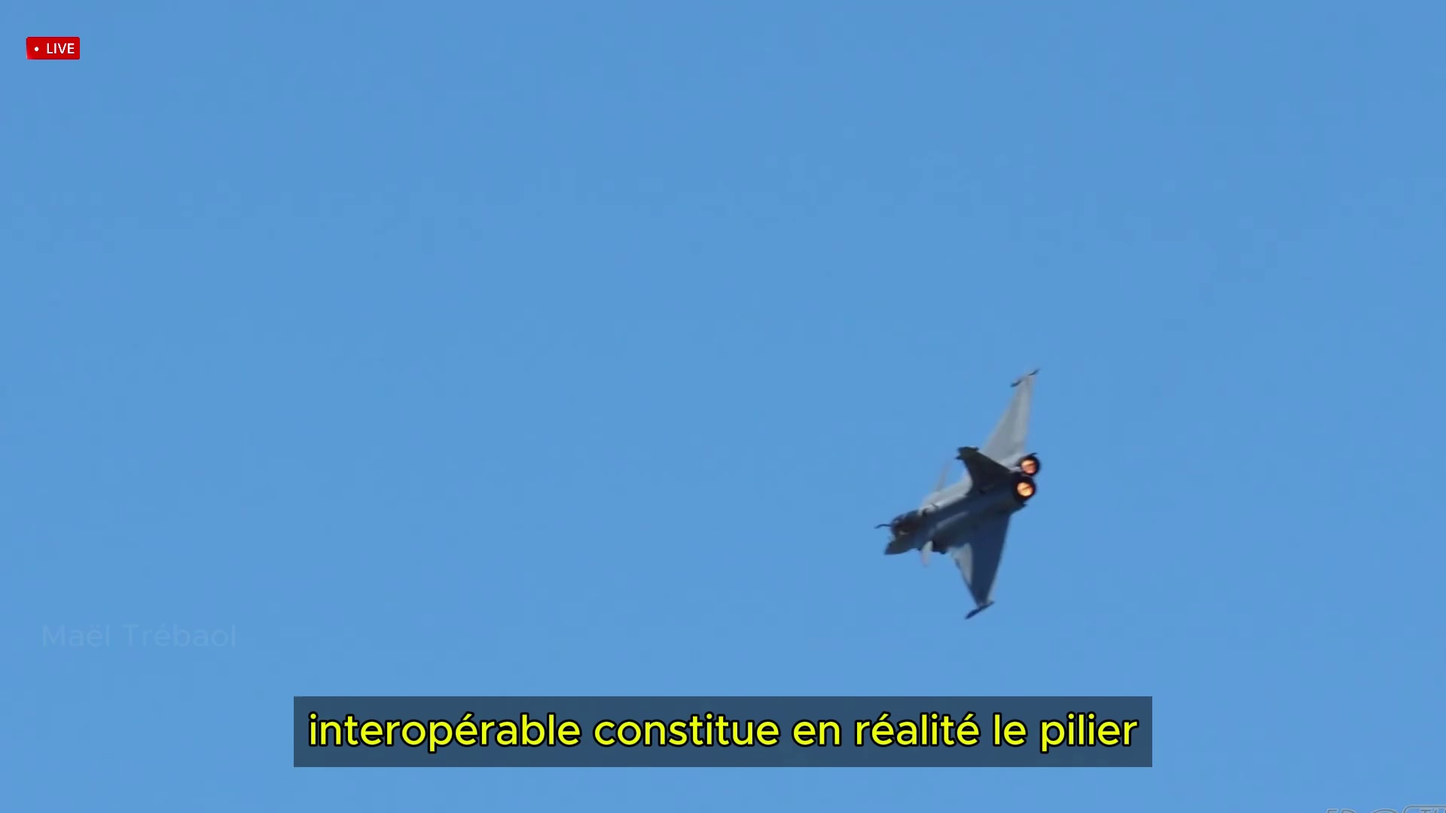Rafale: (868, 364, 1048, 626)
